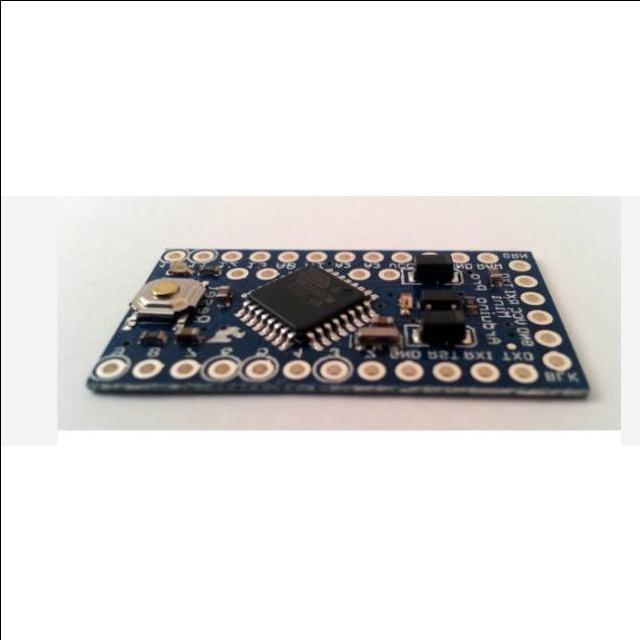Arduino-ProMini: (88, 250, 590, 398)
